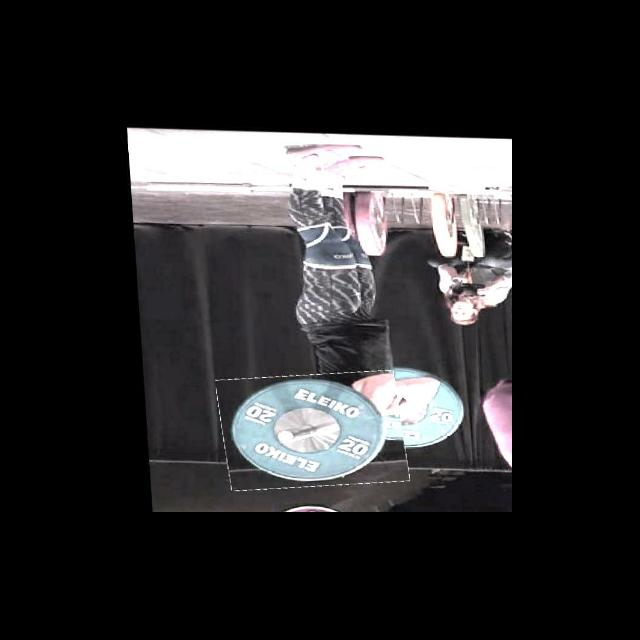barbell: (213, 368, 403, 490)
